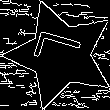L_E: (30, 32, 91, 77)
